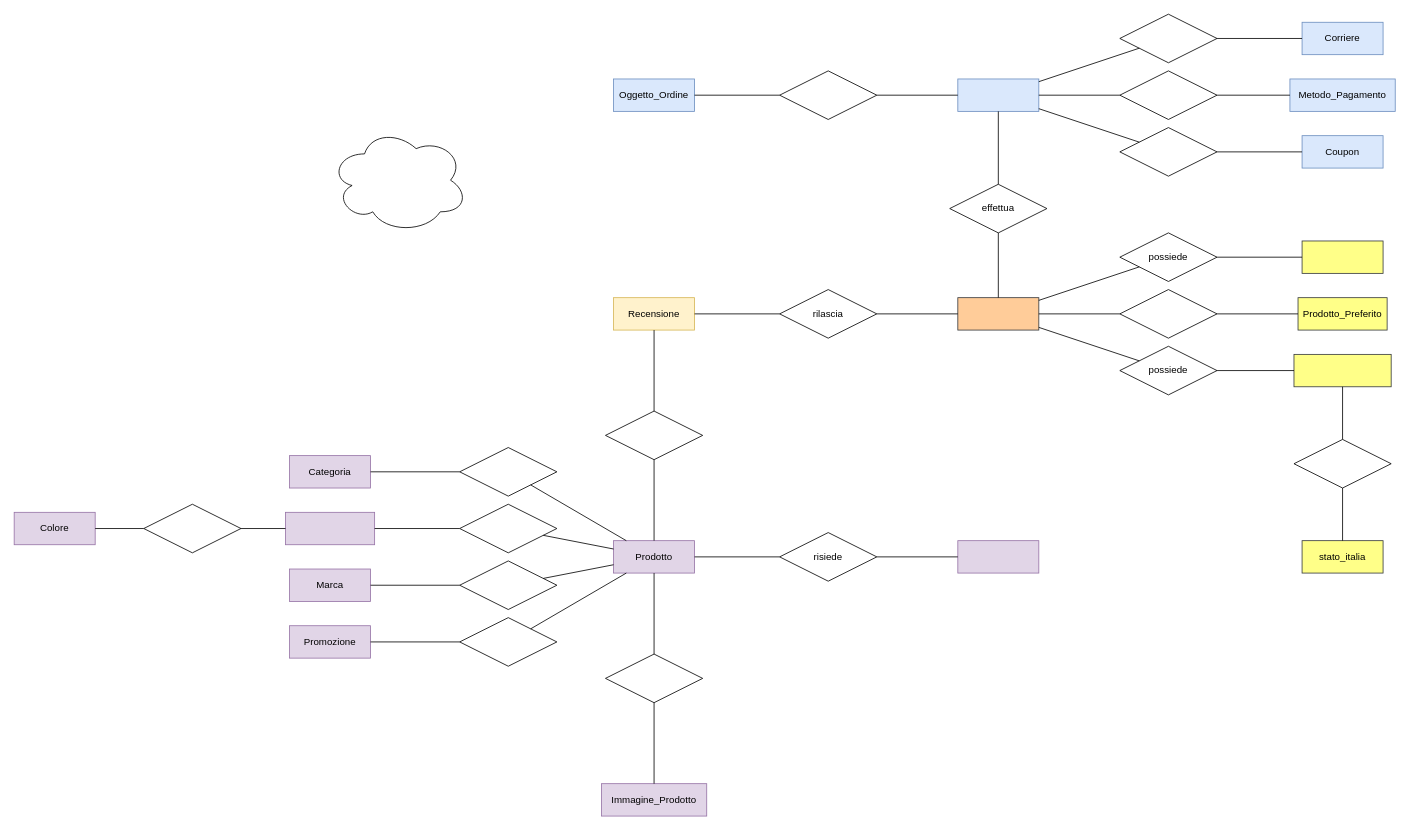
Some shapes in this 1409 by 830 pixel diagram are drawn without their labels. Each missing label, with the box of its shape:
Carrello: (1301, 240, 1383, 273)
Colore_Prodotto: (285, 512, 375, 545)
Indirizzo_Spedizione: (1293, 354, 1391, 387)
le cardinalità alla fine se no è un macello per gli spostamenti: (329, 127, 468, 233)
Magazzino: (957, 540, 1039, 573)
Ordine: (957, 78, 1039, 111)
preferisce: (1119, 289, 1217, 338)
Utente: (957, 297, 1039, 330)
utilizza: (1293, 439, 1391, 488)
